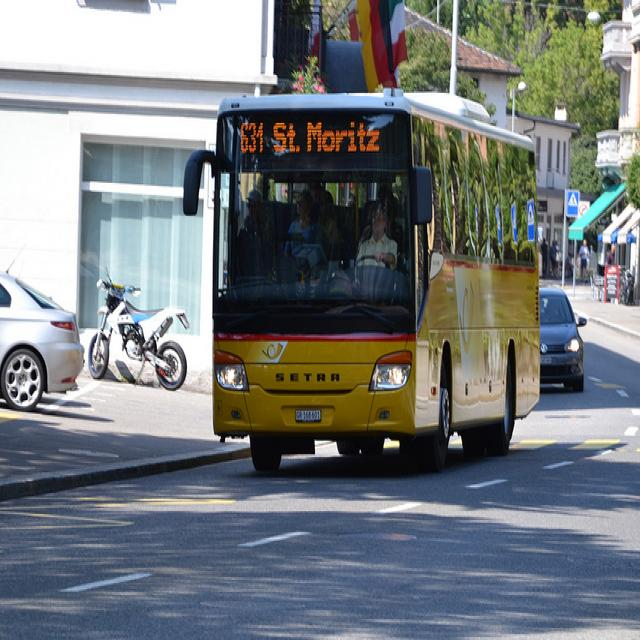motor: (89, 269, 192, 391)
